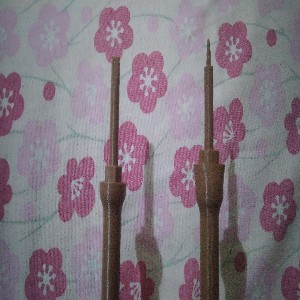obeng: (99, 55, 127, 300)
solder: (192, 36, 226, 300)
